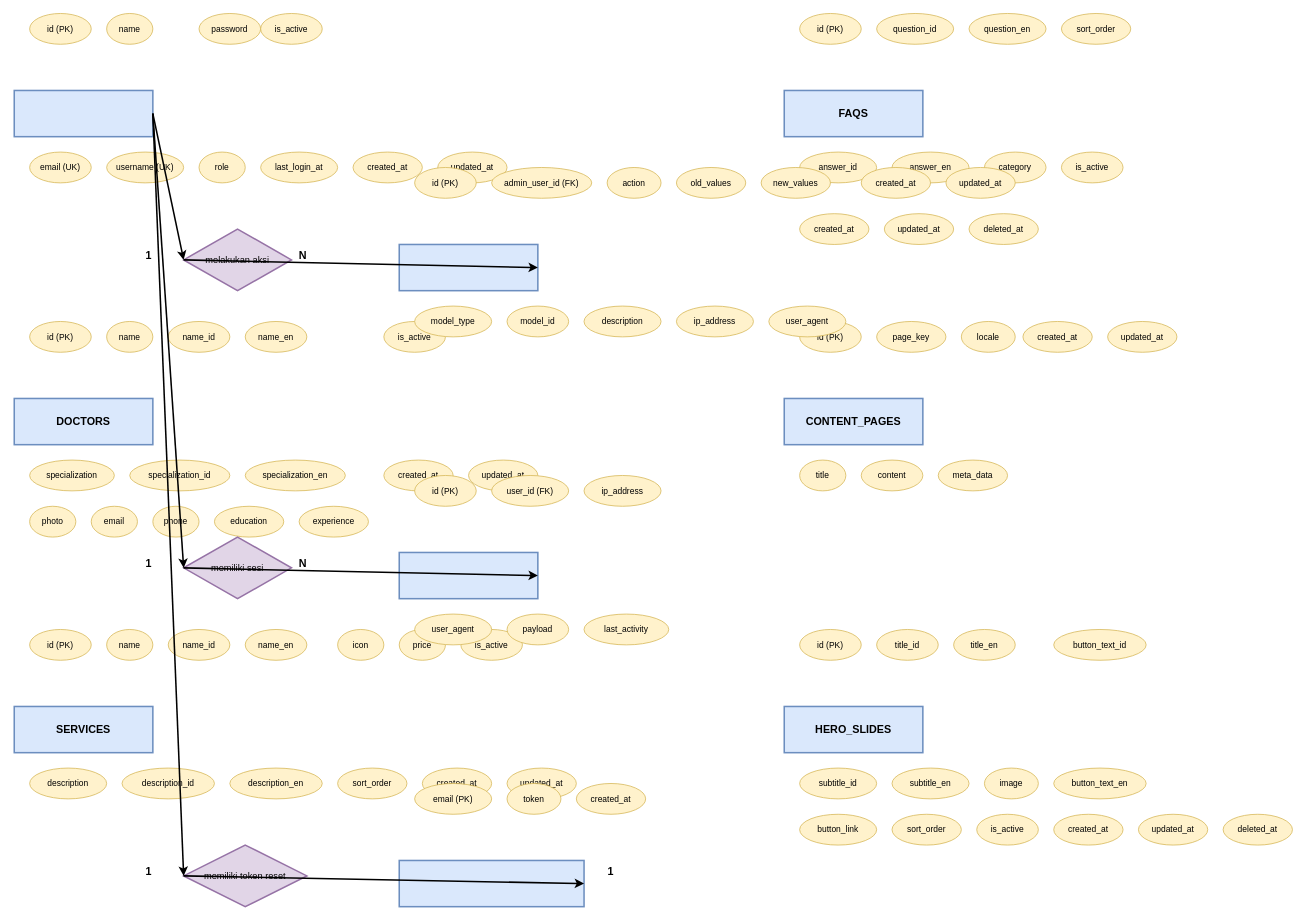
The diagram is 1306 pixels wide and 921 high, and some of its shapes have lost their labels. Each missing label, with the centre of its shape:
"ACTIVITY_LOGS" belongs at (x=468, y=267).
"ADMIN_PASSWORD_RESET_TOKENS" belongs at (x=491, y=883).
"ADMIN_USERS" belongs at (x=83, y=113).
"SESSIONS" belongs at (x=468, y=575).
